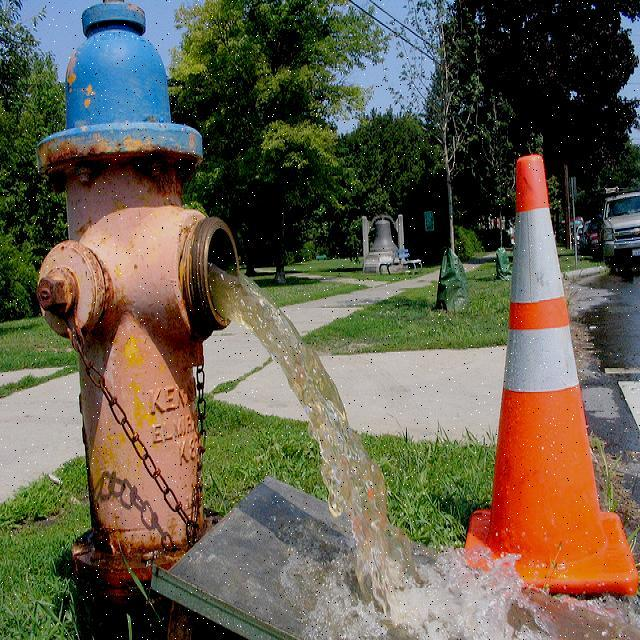fire_hydrant: (35, 1, 246, 634)
